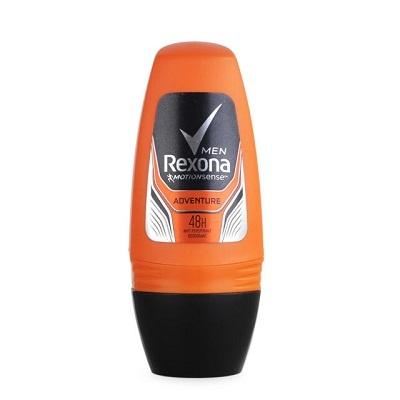rexona: (124, 36, 261, 377)
